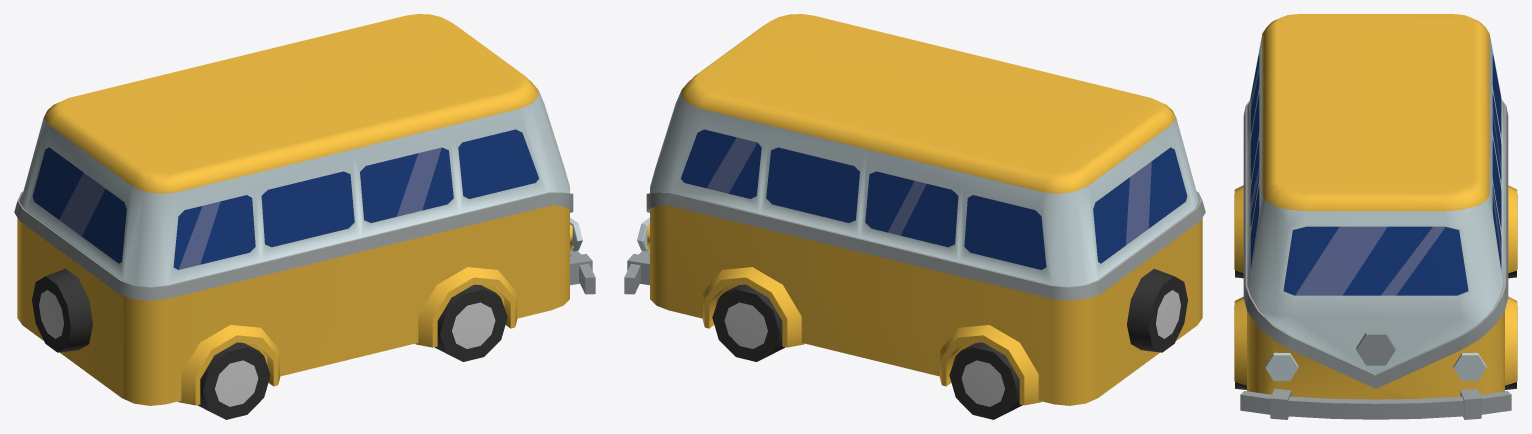
The model's file is van.fbx.
3 renders of one model, left to right at view 1: azimuth 30°, elevation 25°; view 2: azimuth 150°, elevation 25°; view 3: azimuth 270°, elevation 25°, orthographic. The views are drawn at different scales.
Visible parts, largest first — view 1: van_color, van, van_wheel; view 2: van_color, van, van_wheel; view 3: van_color, van.
Part boxes in pixels (x1,y1,x2,y2): van_color: [17, 14, 572, 405]; van: [14, 90, 595, 352]; van_wheel: [197, 284, 507, 419]; van_color: [647, 14, 1202, 405]; van: [624, 90, 1205, 352]; van_wheel: [712, 284, 1022, 419]; van_color: [1234, 14, 1517, 399]; van: [1240, 34, 1511, 419].
Size of the model in its own units: 19.09 by 8.92 by 9.86.
